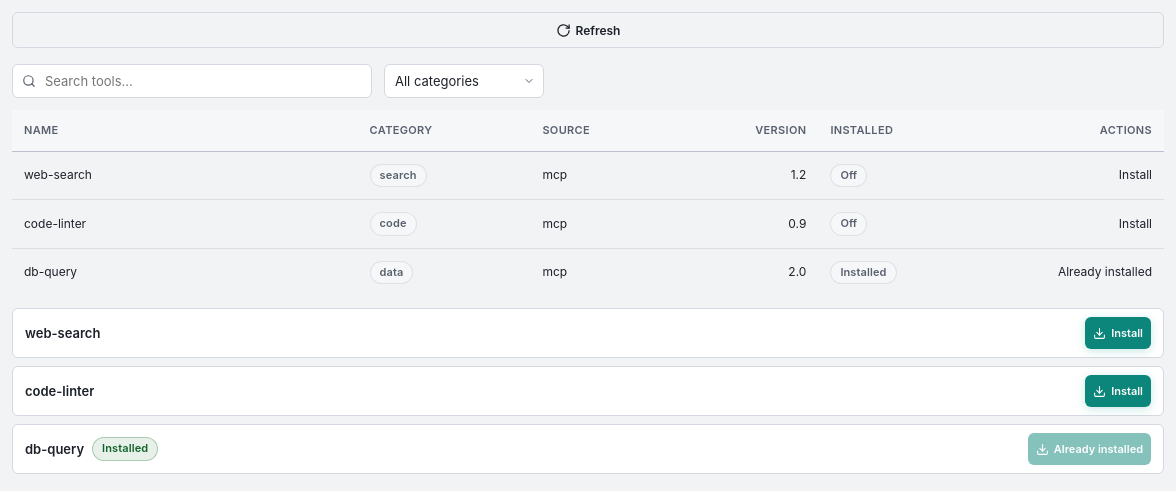
SkillMarket.vue › filters tools by category
This screenshot has width=1176, height=491.
Select "search" in the dropdown with class "category-select" at (464, 81), box [384,64,544,98]
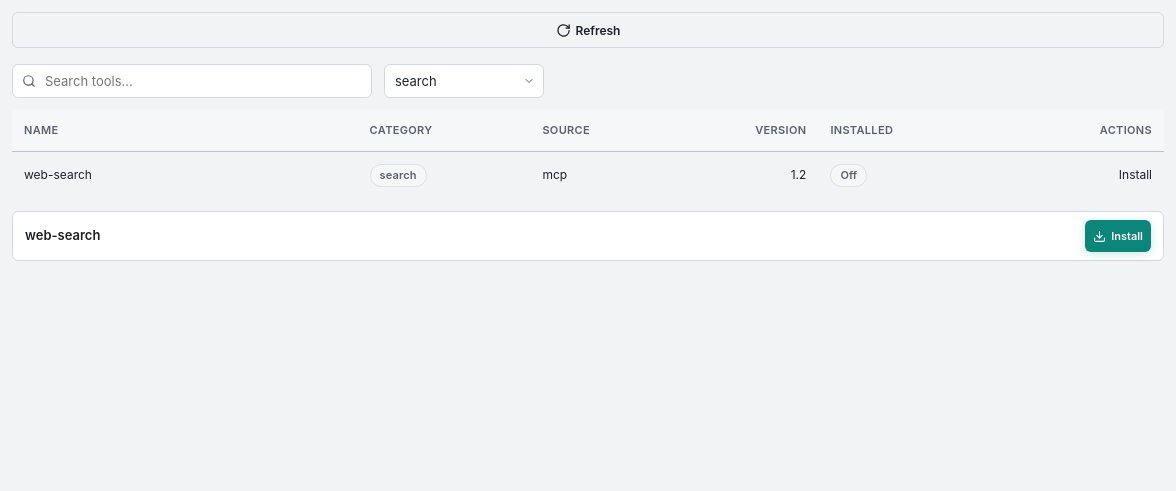
Check: the text "web-search" is shown, box [24,167,92,182]
Check: the number of elements with class "install-row" is 1, box [12,211,1164,261]
